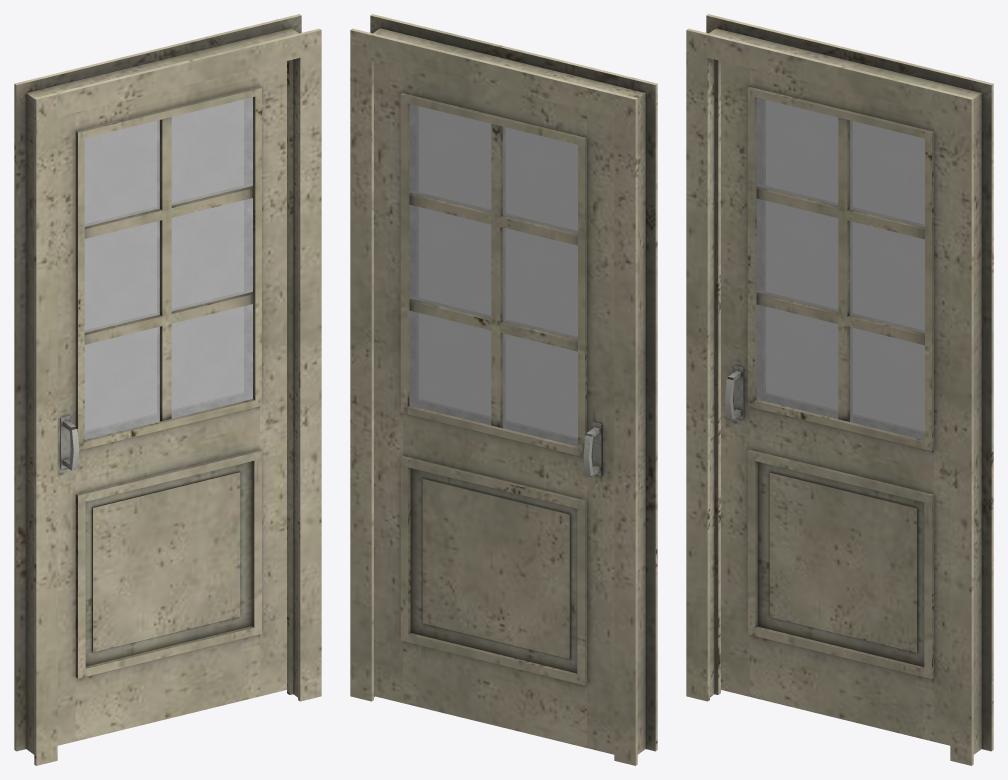
File: door_panel_6lite_lod1_web.glb
The picture shows the model from 3 angles, left to right: view 1: azimuth 30°, elevation 25°; view 2: azimuth 150°, elevation 25°; view 3: azimuth 330°, elevation 25°; orthographic projection.
Parts seen in each view (by area): view 1: Door_Mesh, DoorPanel6Lite_Frame, Glass_Door; view 2: Door_Mesh, DoorPanel6Lite_Frame, Glass_Door; view 3: Door_Mesh, DoorPanel6Lite_Frame, Glass_Door.
Part boxes in pixels (x1=…): Door_Mesh: x1=57, y1=61, x2=286, y2=745; DoorPanel6Lite_Frame: x1=14, y1=14, x2=321, y2=765; Glass_Door: x1=84, y1=97, x2=252, y2=439; Door_Mesh: x1=374, y1=58, x2=614, y2=754; DoorPanel6Lite_Frame: x1=350, y1=14, x2=657, y2=765; Glass_Door: x1=409, y1=104, x2=577, y2=446; Door_Mesh: x1=721, y1=61, x2=950, y2=745; DoorPanel6Lite_Frame: x1=686, y1=14, x2=993, y2=765; Glass_Door: x1=756, y1=97, x2=924, y2=440.
Size of the model in its own units: 0.93 by 2.07 by 0.1729.
Materials: 2 (2 with a texture image).
